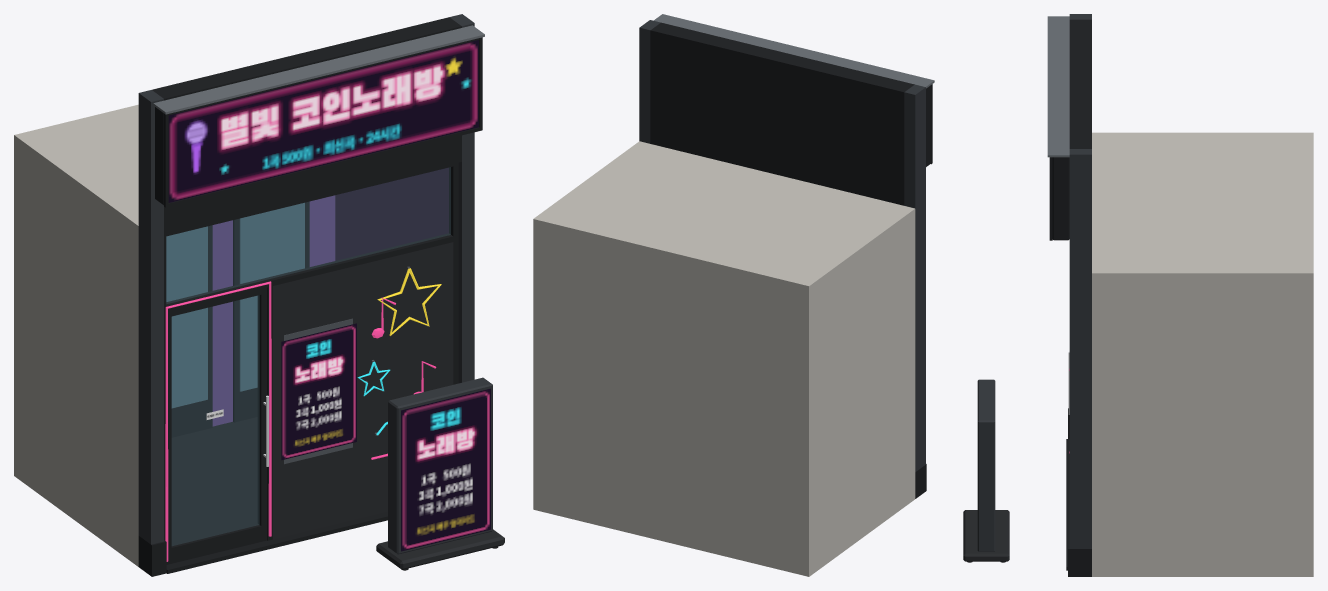
The model's file is SC_Shop_Karaoke.gltf.
The picture shows the model from 3 angles, left to right: view 1: azimuth 30°, elevation 25°; view 2: azimuth 150°, elevation 25°; view 3: azimuth 270°, elevation 25°; orthographic projection. The views are drawn at different scales.
Visible parts, largest first — view 1: SC_Shop_Karaoke; view 2: SC_Shop_Karaoke; view 3: SC_Shop_Karaoke.
Boxes of the visible parts, <box> form: SC_Shop_Karaoke: <box>14,14,504,576</box>; SC_Shop_Karaoke: <box>533,14,934,576</box>; SC_Shop_Karaoke: <box>963,14,1313,576</box>.
Bounding box in the file's own units: 3 × 4.2 × 3.16.
5 materials, 5 textured.
